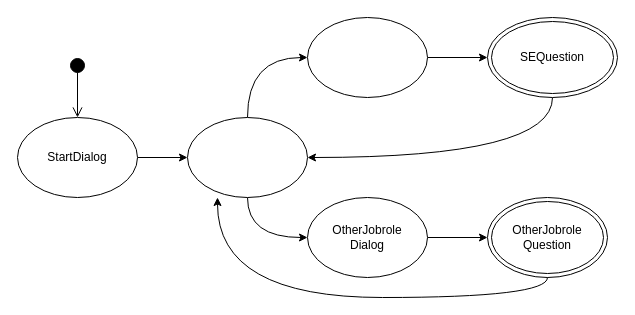
Image size: 635x315. Some labels were removed from this diagram. The shapes that lost their labels are listed below. From the top down, each one's box as (x1, y1, x2, y2) in pixels, then its label:
(306, 16, 428, 98): SoftwareEngineer Dialog
(186, 116, 308, 198): NoDialog
